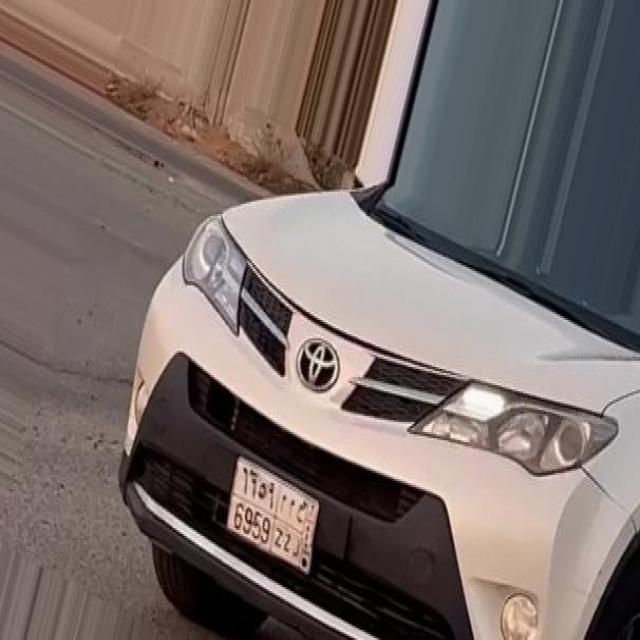Car-plate: (215, 436, 325, 596)
